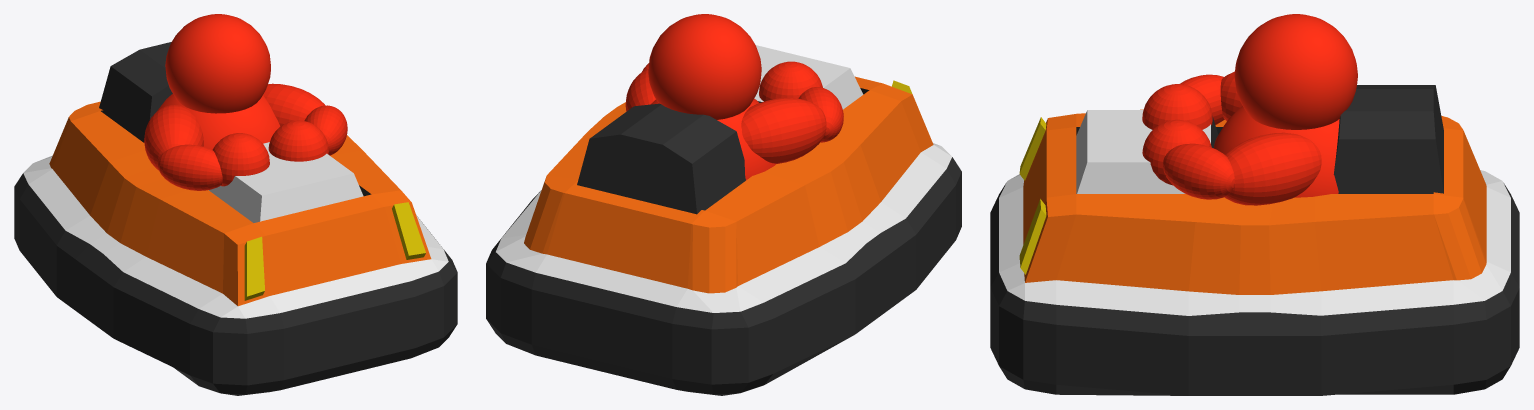
Rendered from autoRojo.fbx.
The picture shows the model from 3 angles, left to right: view 1: azimuth 30°, elevation 25°; view 2: azimuth 150°, elevation 25°; view 3: azimuth 270°, elevation 25°; orthographic projection. The views are drawn at different scales.
Parts seen in each view (by area): view 1: AutoRojo; view 2: AutoRojo; view 3: AutoRojo.
Boxes of the visible parts, x1,y1,x2,y2 form: AutoRojo: (14, 14, 457, 395); AutoRojo: (486, 14, 961, 395); AutoRojo: (990, 14, 1519, 395).
Bounding box in the file's own units: 460 × 401 × 600.
